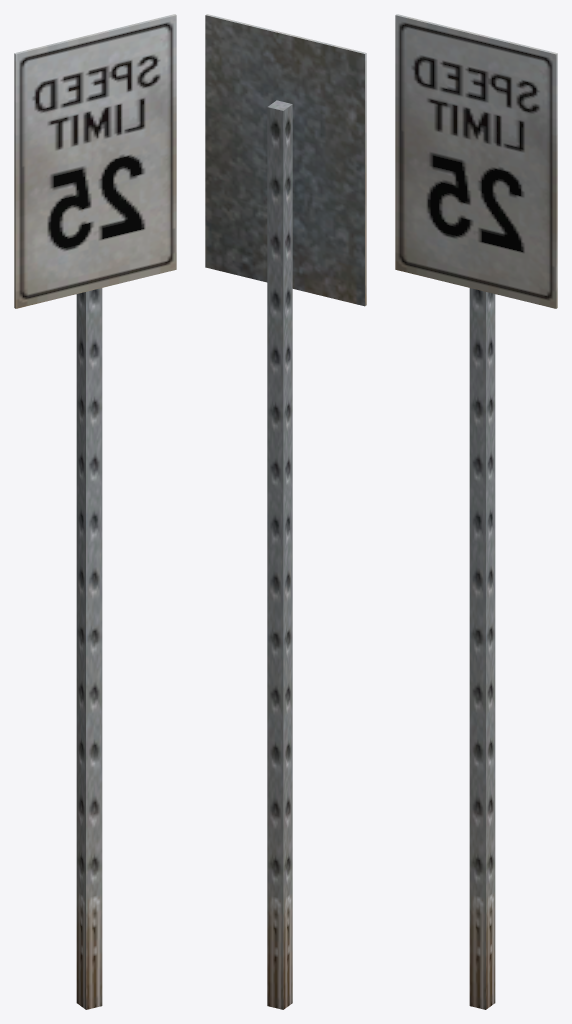
File: 25mph.fbx
3 views of the same model, side by side, from view 1: azimuth 30°, elevation 25°; view 2: azimuth 150°, elevation 25°; view 3: azimuth 330°, elevation 25° (orthographic).
Parts seen in each view (by area): view 1: mesh_0, mesh_1; view 2: mesh_0, mesh_1; view 3: mesh_0, mesh_1.
Part boxes in pixels (left/top/right/bottom): mesh_0: left=14, top=14, right=176, bottom=308; mesh_1: left=76, top=288, right=102, bottom=1009; mesh_0: left=205, top=14, right=366, bottom=306; mesh_1: left=267, top=100, right=292, bottom=1009; mesh_0: left=395, top=14, right=557, bottom=308; mesh_1: left=469, top=288, right=495, bottom=1009.
Bounding box in the file's own units: 44.43 × 257 × 5.49.
2 materials, 2 textured.
